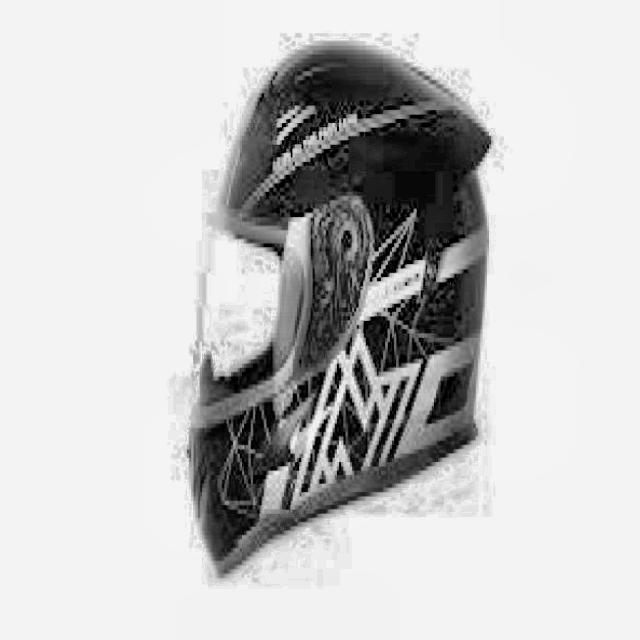Helmet: (182, 34, 506, 582)
